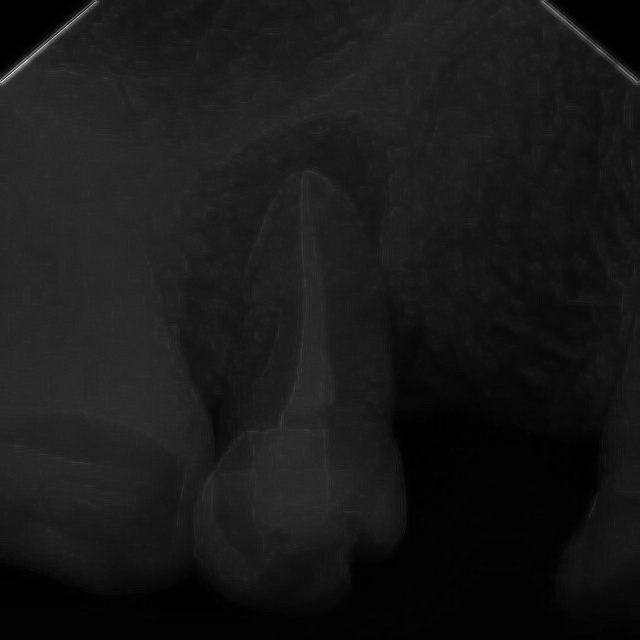Class 0- No endodontic treatment: (186, 137, 456, 617)
